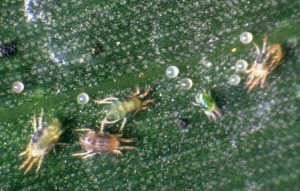Mites: (69, 124, 136, 169), (14, 102, 57, 168), (248, 35, 282, 102), (98, 89, 154, 125), (188, 86, 219, 128)
